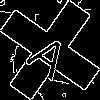A: (25, 25, 79, 82)
